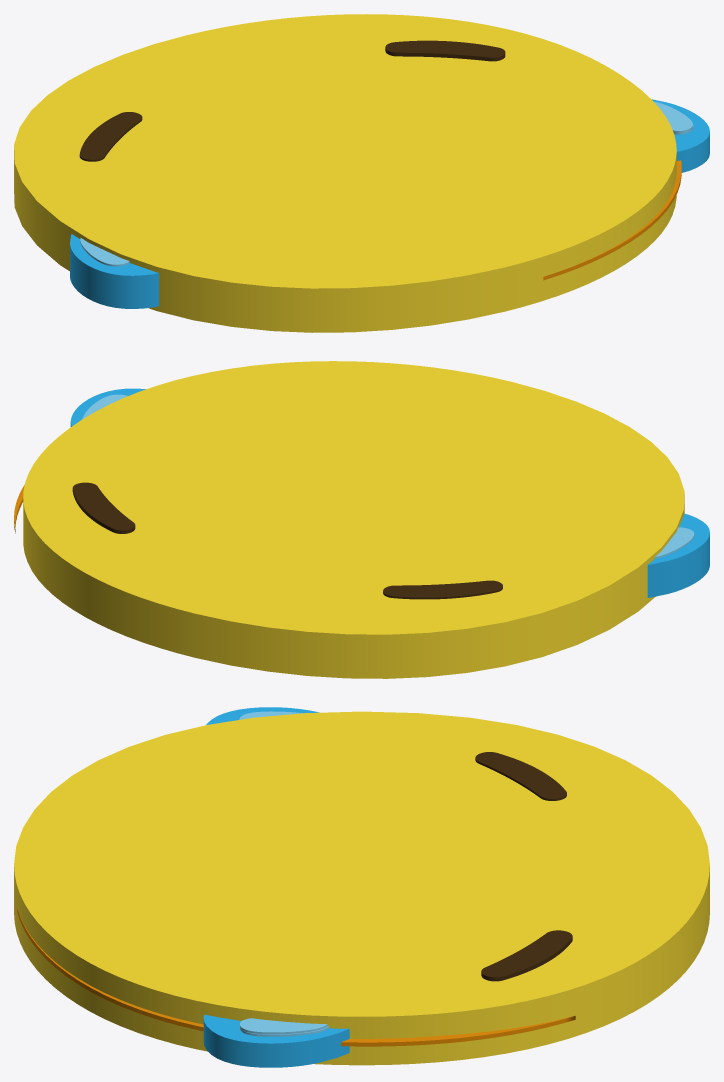
The model's file is emoji_u1f602.glb.
3 renders of one model, top to bottom at view 1: azimuth 30°, elevation 25°; view 2: azimuth 150°, elevation 25°; view 3: azimuth 270°, elevation 25°, orthographic. The views are drawn at different scales.
Visible parts, largest first — view 1: emoji_u1f602; view 2: emoji_u1f602; view 3: emoji_u1f602.
Boxes of the visible parts, x1,y1,x2,y2 form: emoji_u1f602: [14, 14, 709, 332]; emoji_u1f602: [14, 361, 709, 678]; emoji_u1f602: [14, 707, 709, 1067].
Size of the model in its own units: 0.035 by 0.0028 by 0.0312.
